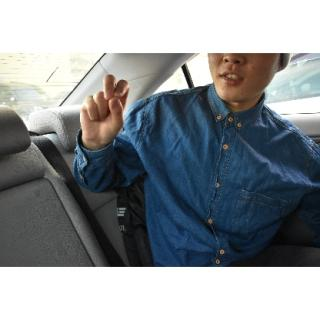QAAF: (76, 70, 135, 145)
